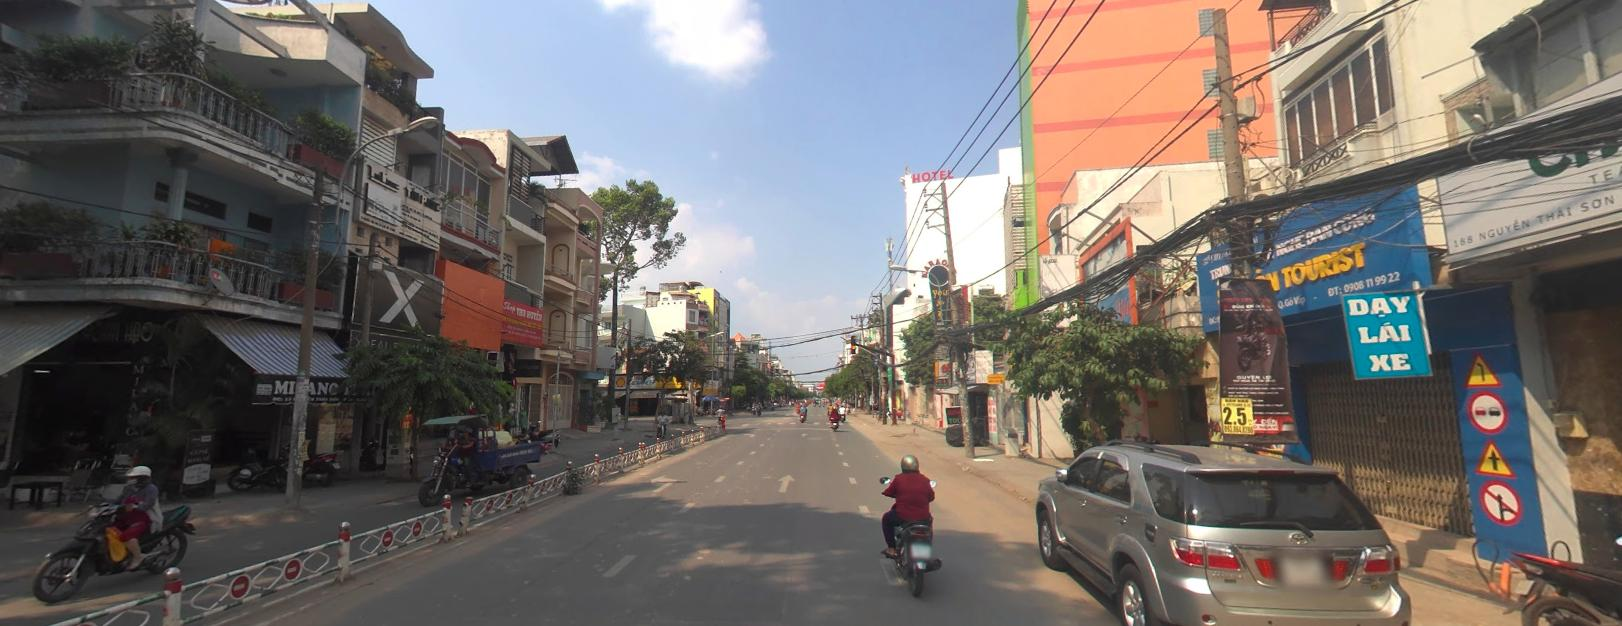Cam con lai: (1477, 479, 1522, 524), (1466, 390, 1508, 433)
Nguy hiem: (1474, 437, 1516, 477), (1464, 353, 1501, 386)
